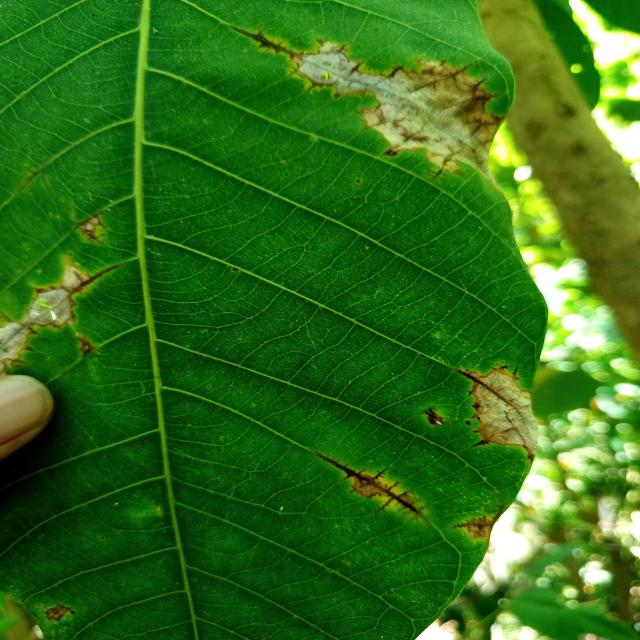Colletotrichum: (300, 46, 503, 192), (232, 268, 238, 271)
Corynespora: (314, 452, 429, 522), (231, 24, 305, 61), (68, 264, 122, 294), (450, 501, 507, 529), (76, 211, 106, 246), (455, 370, 491, 390)
Leaf-Blight: (469, 369, 539, 460), (28, 289, 72, 325), (0, 324, 28, 369), (468, 518, 496, 541), (62, 266, 90, 288)
